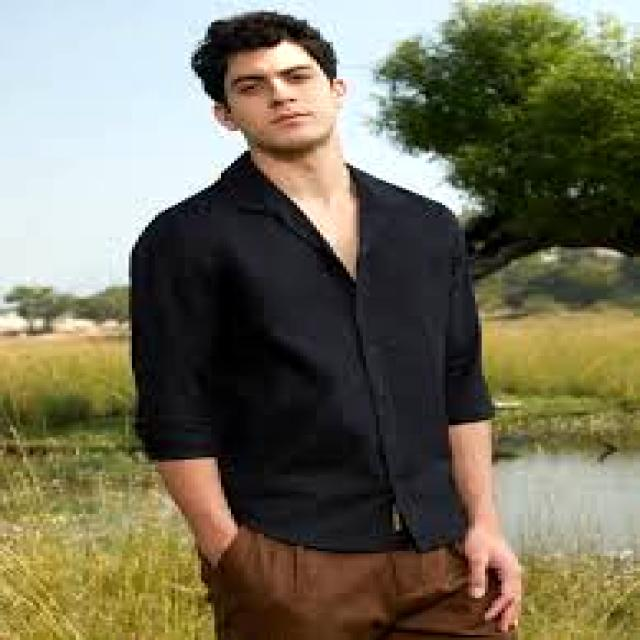face: (196, 13, 350, 153)
lower-wear: (202, 533, 527, 640)
top-wear: (125, 150, 504, 553)
